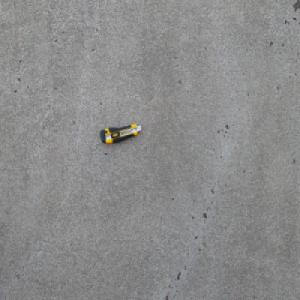Cutter: (99, 123, 141, 144)
